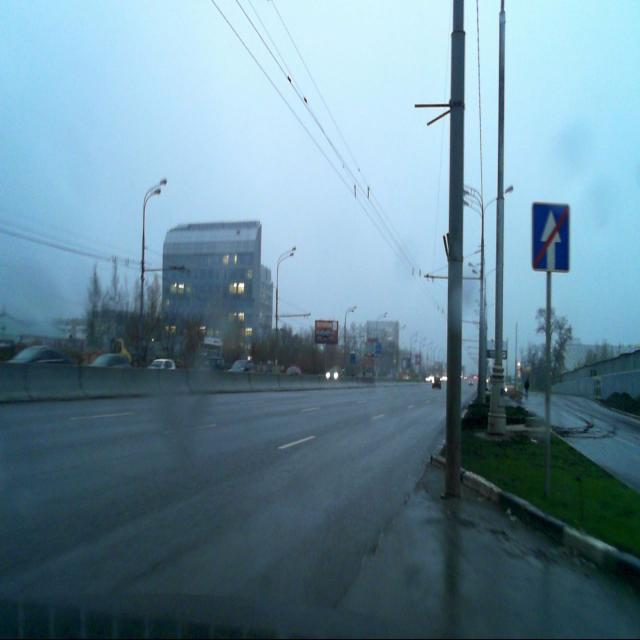object: (542, 274, 552, 501)
road sign: (532, 203, 570, 272)
